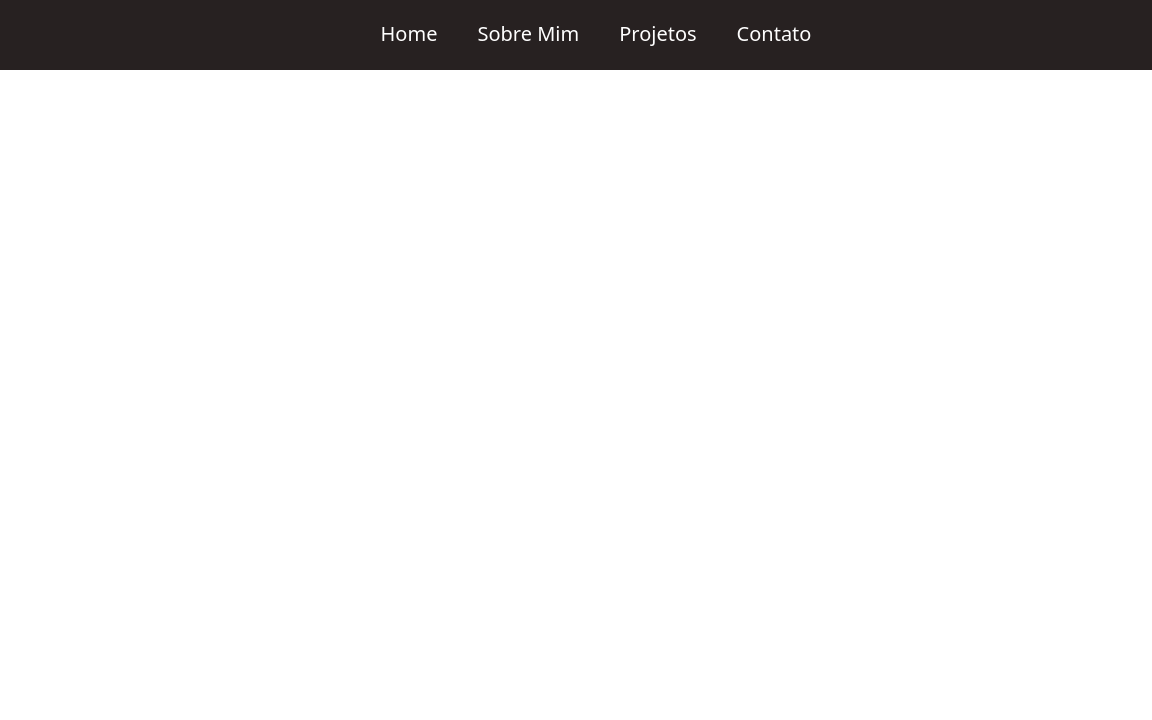
it: routes › should render the contact page
Click the link "Contato" at (774, 34), box [737, 20, 812, 47]
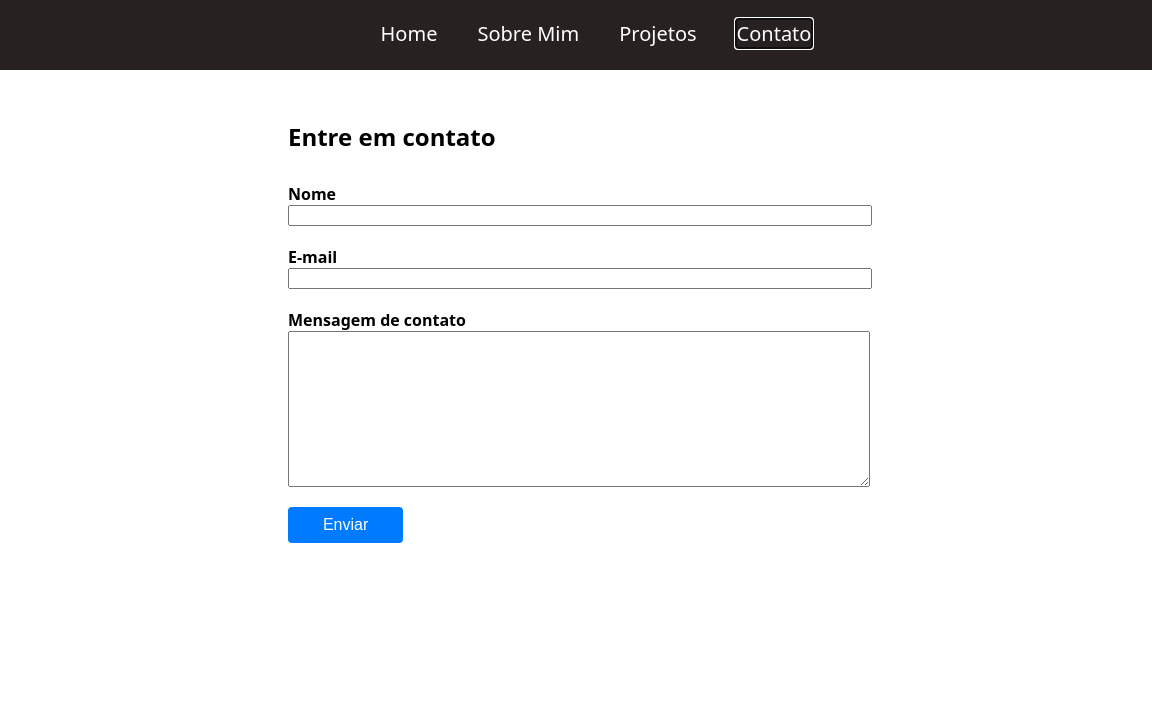
Check: the heading "Entre em contato" is shown, box [288, 120, 496, 153]
Check: the field labelled "Nome" is shown, box [288, 205, 872, 226]
Check: the field labelled "E-mail" is shown, box [288, 268, 872, 289]
